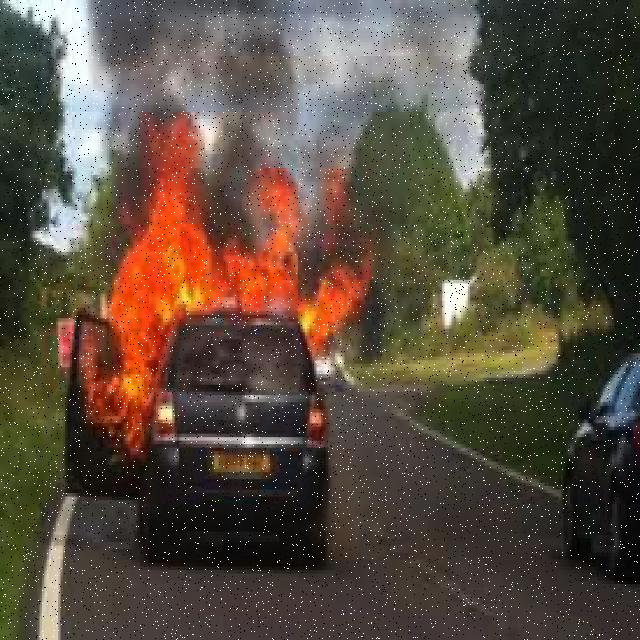fire: (105, 150, 348, 443)
smoke: (93, 5, 400, 148)
